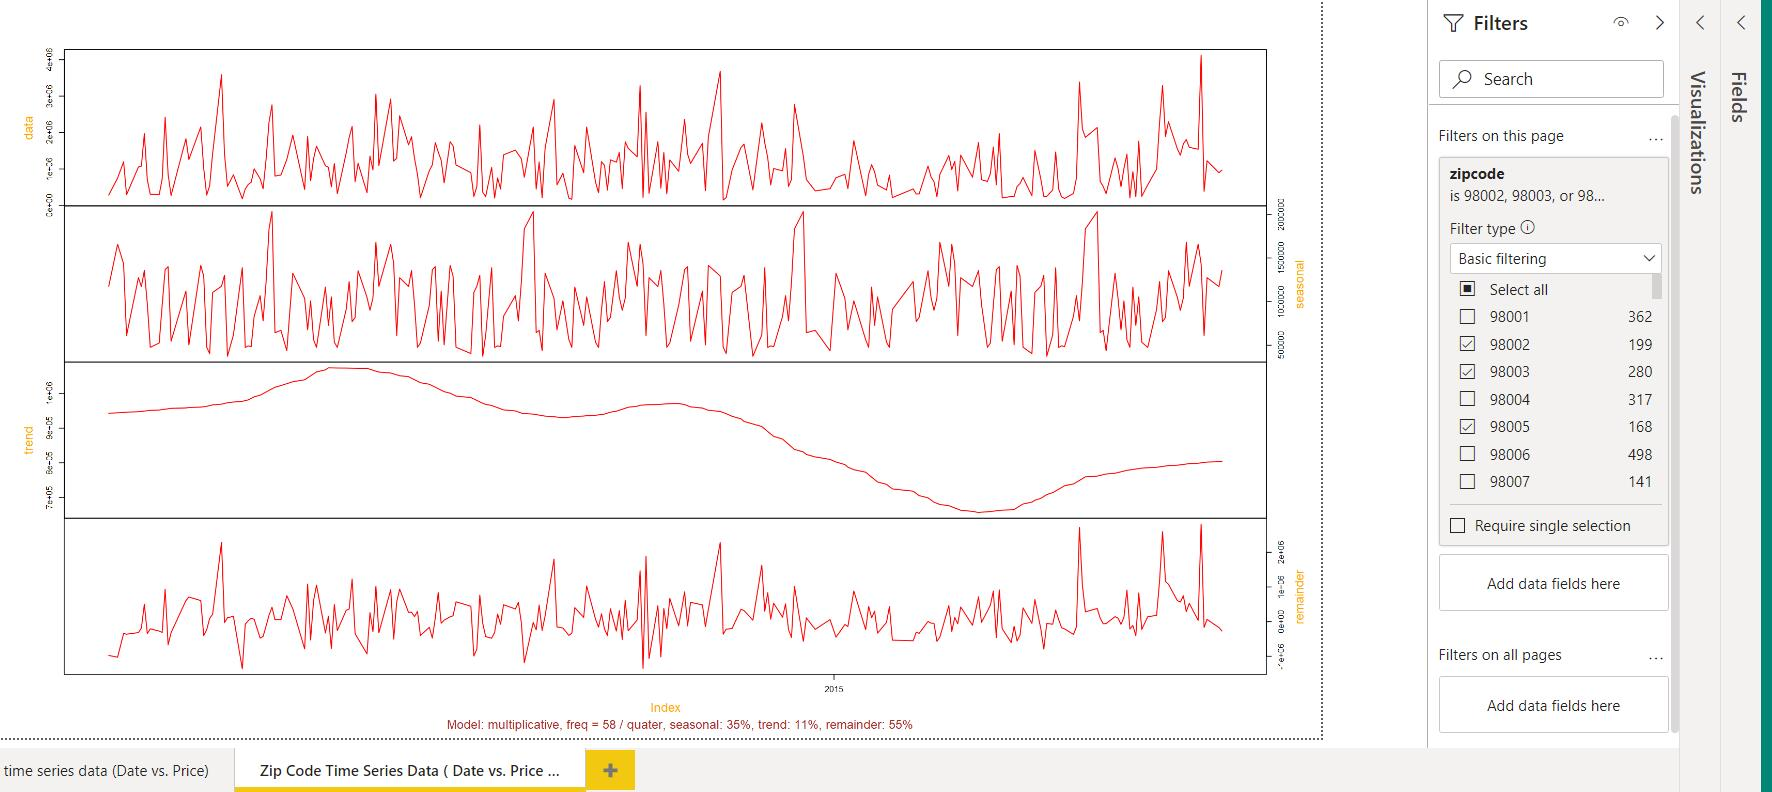

The page's visual inventory and layout, read from the dashboard file:
{"tool":"powerbi","page":{"name":"Zip Code Time Series Data ( Date vs. Price vs. Zip Code)","canvas":[1280,720],"ordinal":1},"visuals":[{"type":"PBI_CV_CAD60C71_FAD5_4B59_A498_A7FB0DDC7A2B","fields":{"Time":["kc_house_data.date"],"Value":["Sum(kc_house_data.price)"]},"box":[9.7,0,1270.6,720],"z":0}]}

Visuals, with their boxes on the page's 1280x720 design canvas (x1, y1, x2, y2). These are canvas units, not pixel positions in the 1772x792 screenshot, which may show the page scaled, cropped or inside an application window:
PBI_CV_CAD60C71_FAD5_4B59_A498_A7FB0DDC7A2B - kc_house_data.date x Sum(kc_house_data.price): (left=10, top=0, right=1280, bottom=720)
